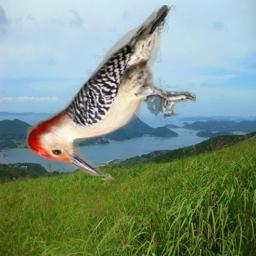Woodpecker: (23, 5, 196, 176)
